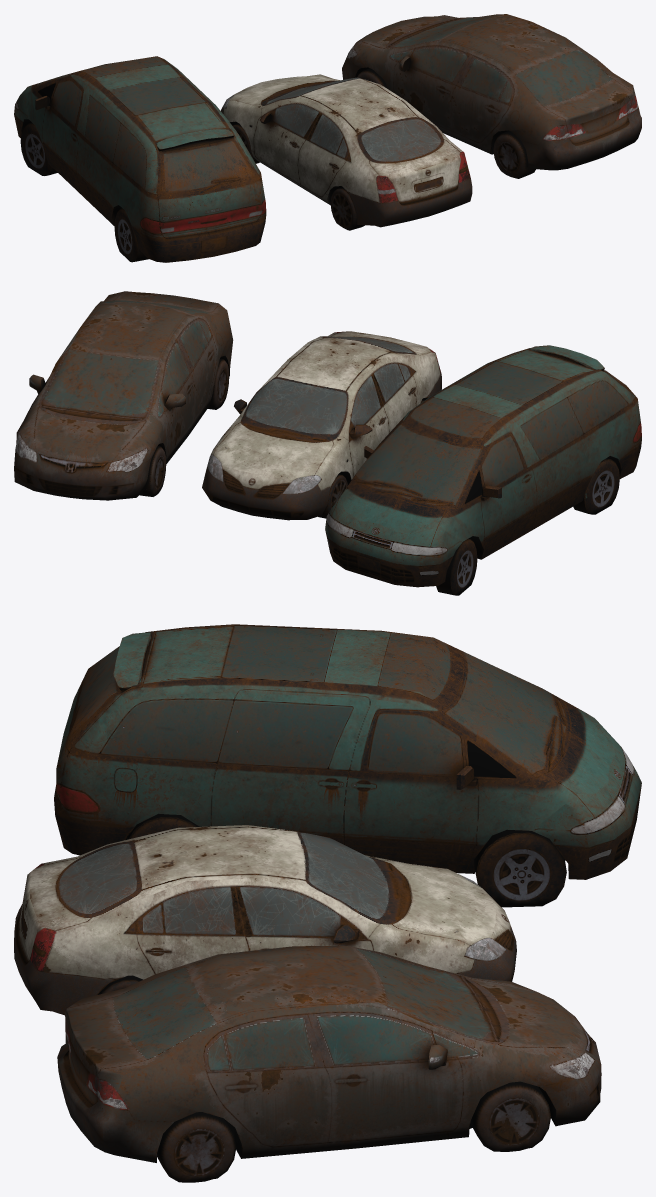
File: display.FBX
3 views of the same model, one above another, from view 1: azimuth 30°, elevation 25°; view 2: azimuth 150°, elevation 25°; view 3: azimuth 270°, elevation 25° (orthographic). The views are drawn at different scales.
Visible parts, largest first — view 1: Box003, civillow, Box001; view 2: Box003, civillow, Box001; view 3: Box003, civillow, Box001.
Boxes of the visible parts, x1,y1,x2,y2 form: Box003: [14, 56, 266, 262]; civillow: [342, 14, 641, 178]; Box001: [221, 74, 472, 230]; Box003: [325, 345, 641, 595]; civillow: [14, 291, 233, 500]; Box001: [202, 331, 441, 520]; Box003: [54, 624, 641, 907]; civillow: [57, 946, 601, 1182]; Box001: [14, 825, 516, 1015].
Size of what is drawn, in the model's own units: 300 by 72.94 by 206.
